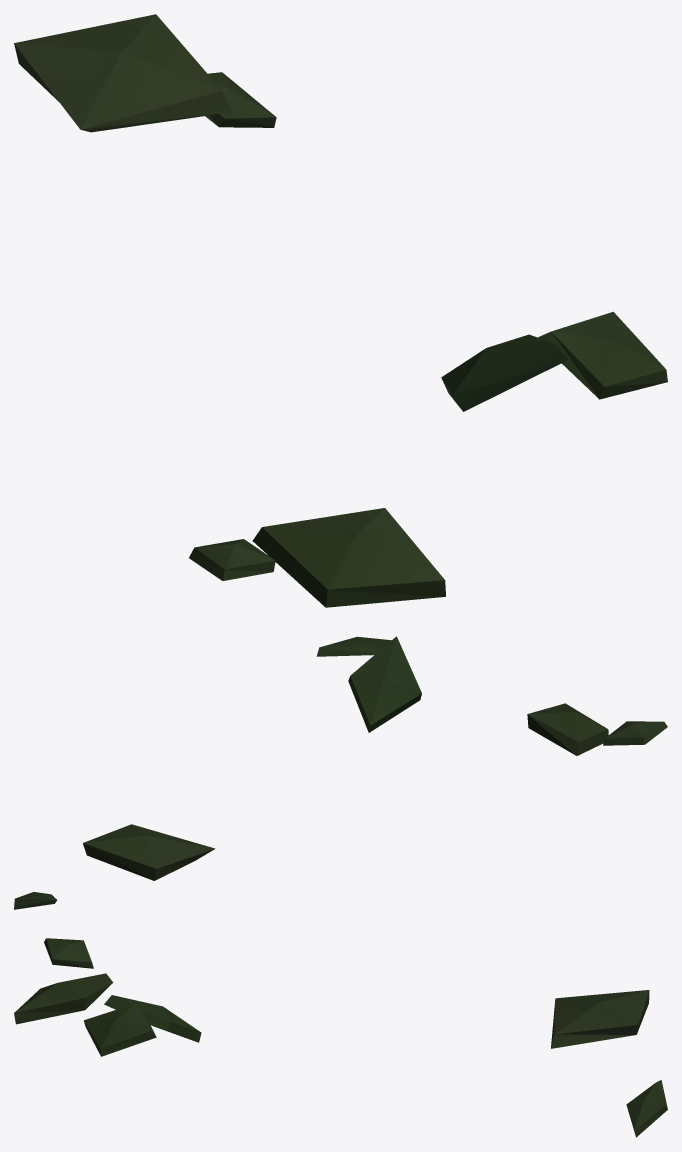
The model's file is leaf_pile.glb.
3 views of the same model, one above another, from view 1: azimuth 30°, elevation 25°; view 2: azimuth 150°, elevation 25°; view 3: azimuth 270°, elevation 25° (orthographic). The views are drawn at different scales.
Visible parts, largest first — view 1: leaf_pile.glb; view 2: leaf_pile.glb; view 3: leaf_pile.glb.
Part boxes in pixels (<box>): leaf_pile.glb: <box>14,14,667,607</box>; leaf_pile.glb: <box>14,636,667,909</box>; leaf_pile.glb: <box>14,938,667,1137</box>.
Bounding box in the file's own units: 0.5757 × 0.1572 × 1.
